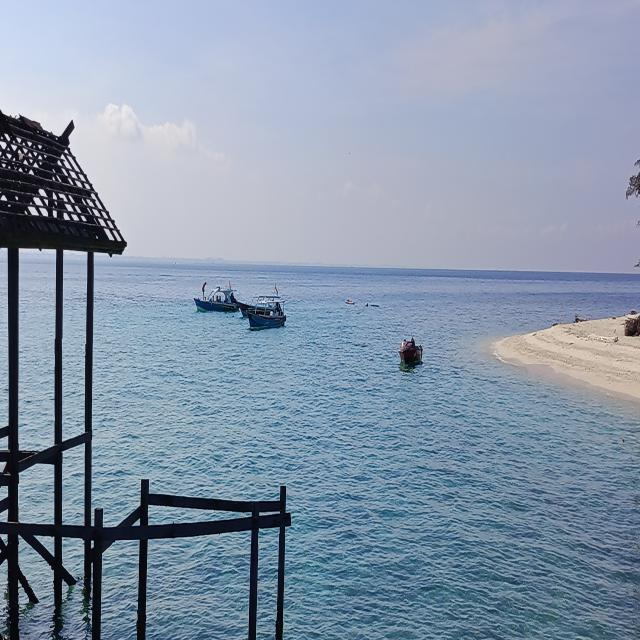Fishing Boat: (182, 230, 322, 390)
